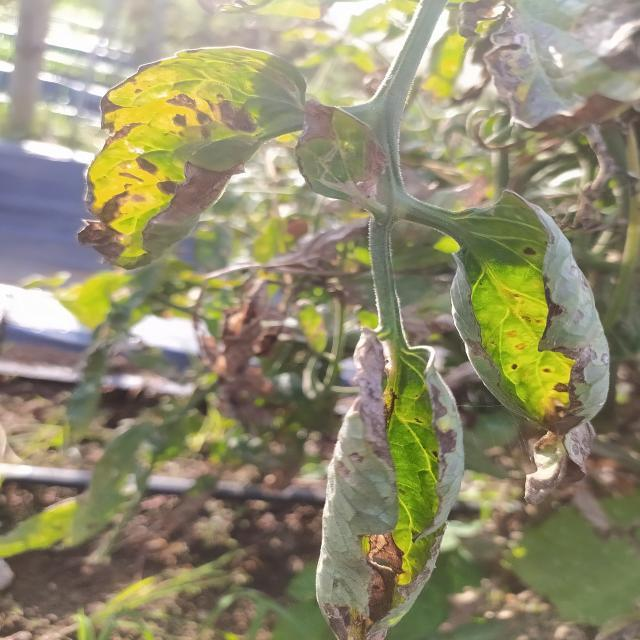Tomato mosaic virus leaf: (70, 59, 268, 275), (447, 238, 617, 433)
